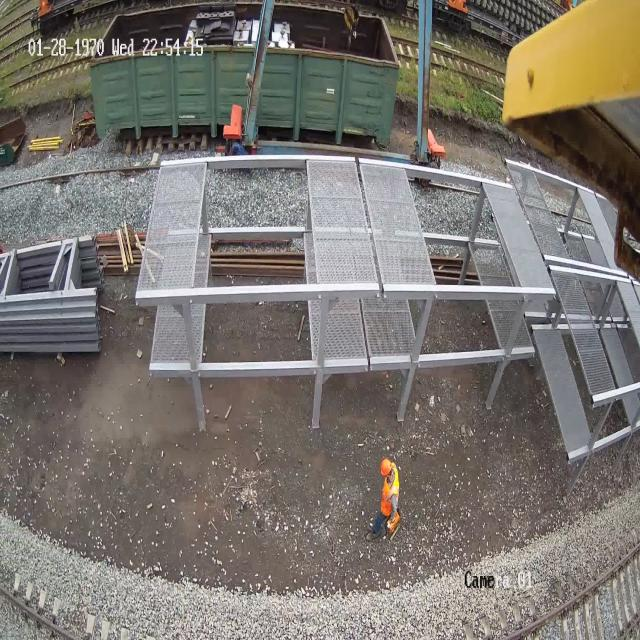Helmet: (381, 458, 392, 476)
Person: (372, 458, 400, 536)
